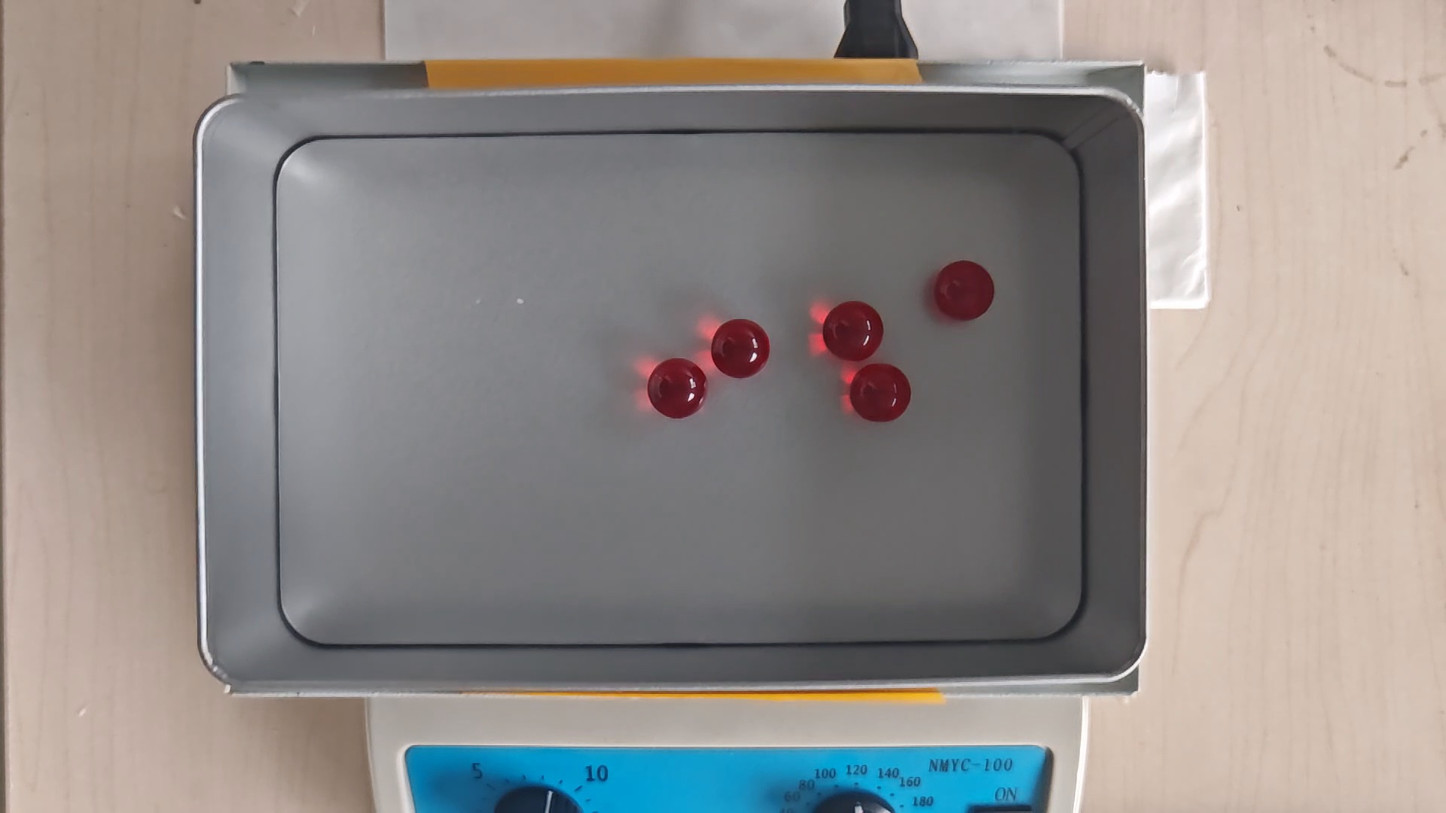ball: (823, 300, 885, 361), (933, 261, 993, 321), (852, 361, 911, 422), (651, 357, 707, 419), (712, 321, 768, 379)
container: (276, 131, 1084, 644)
